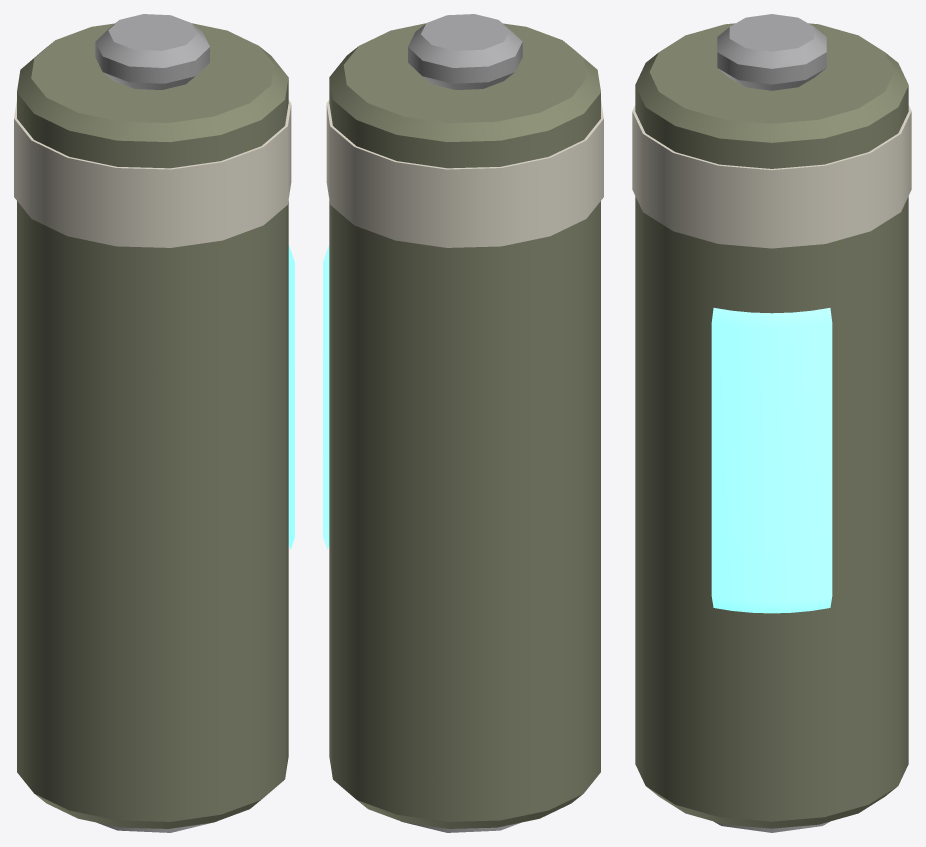
File: power_cell.glb
3 renders of one model, left to right at view 1: azimuth 30°, elevation 25°; view 2: azimuth 150°, elevation 25°; view 3: azimuth 270°, elevation 25°, orthographic.
Visible parts, largest first — view 1: body; view 2: body; view 3: body.
Part boxes in pixels (bbox=[...]): body: bbox=[14, 14, 294, 832]; body: bbox=[323, 14, 603, 832]; body: bbox=[632, 14, 911, 832].
Bounding box in the file's own units: 0.0196 × 0.0585 × 0.0194.
